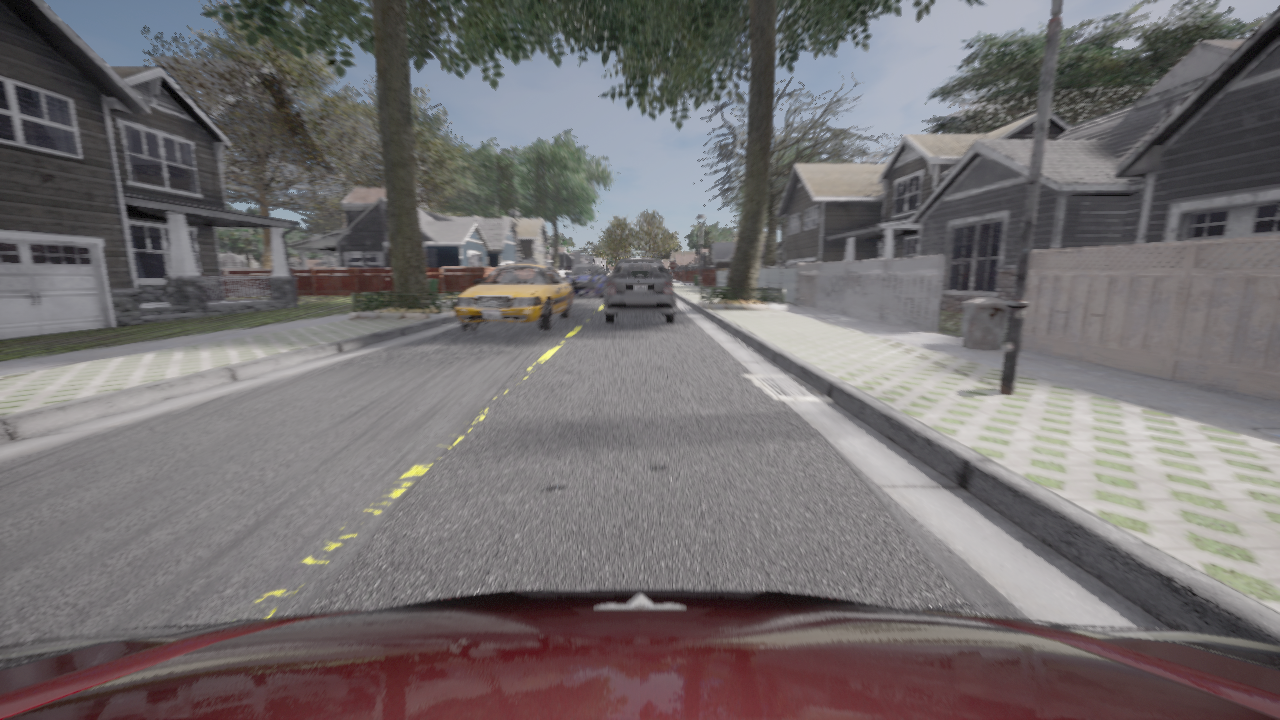cyclist: (0, 588, 1279, 719), (454, 258, 572, 331), (604, 259, 675, 323), (563, 264, 608, 297)
